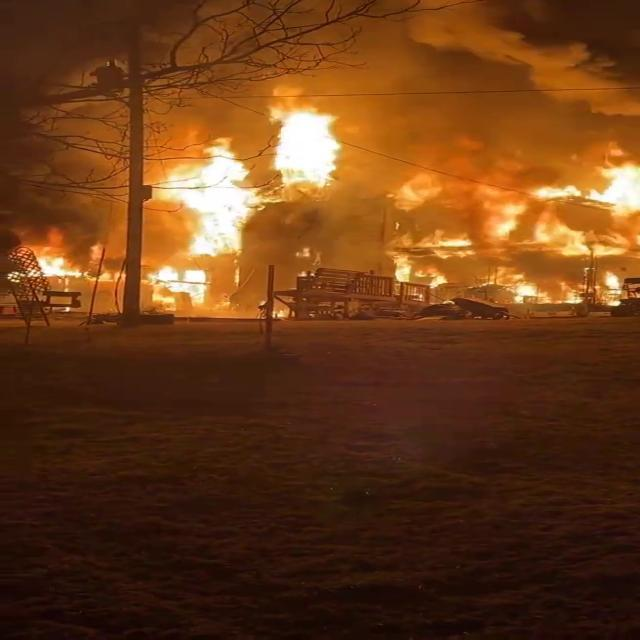Fire: (140, 95, 362, 306), (408, 142, 638, 305), (262, 98, 359, 189), (560, 148, 638, 226), (4, 244, 86, 284)
Smoke: (7, 0, 630, 141)
